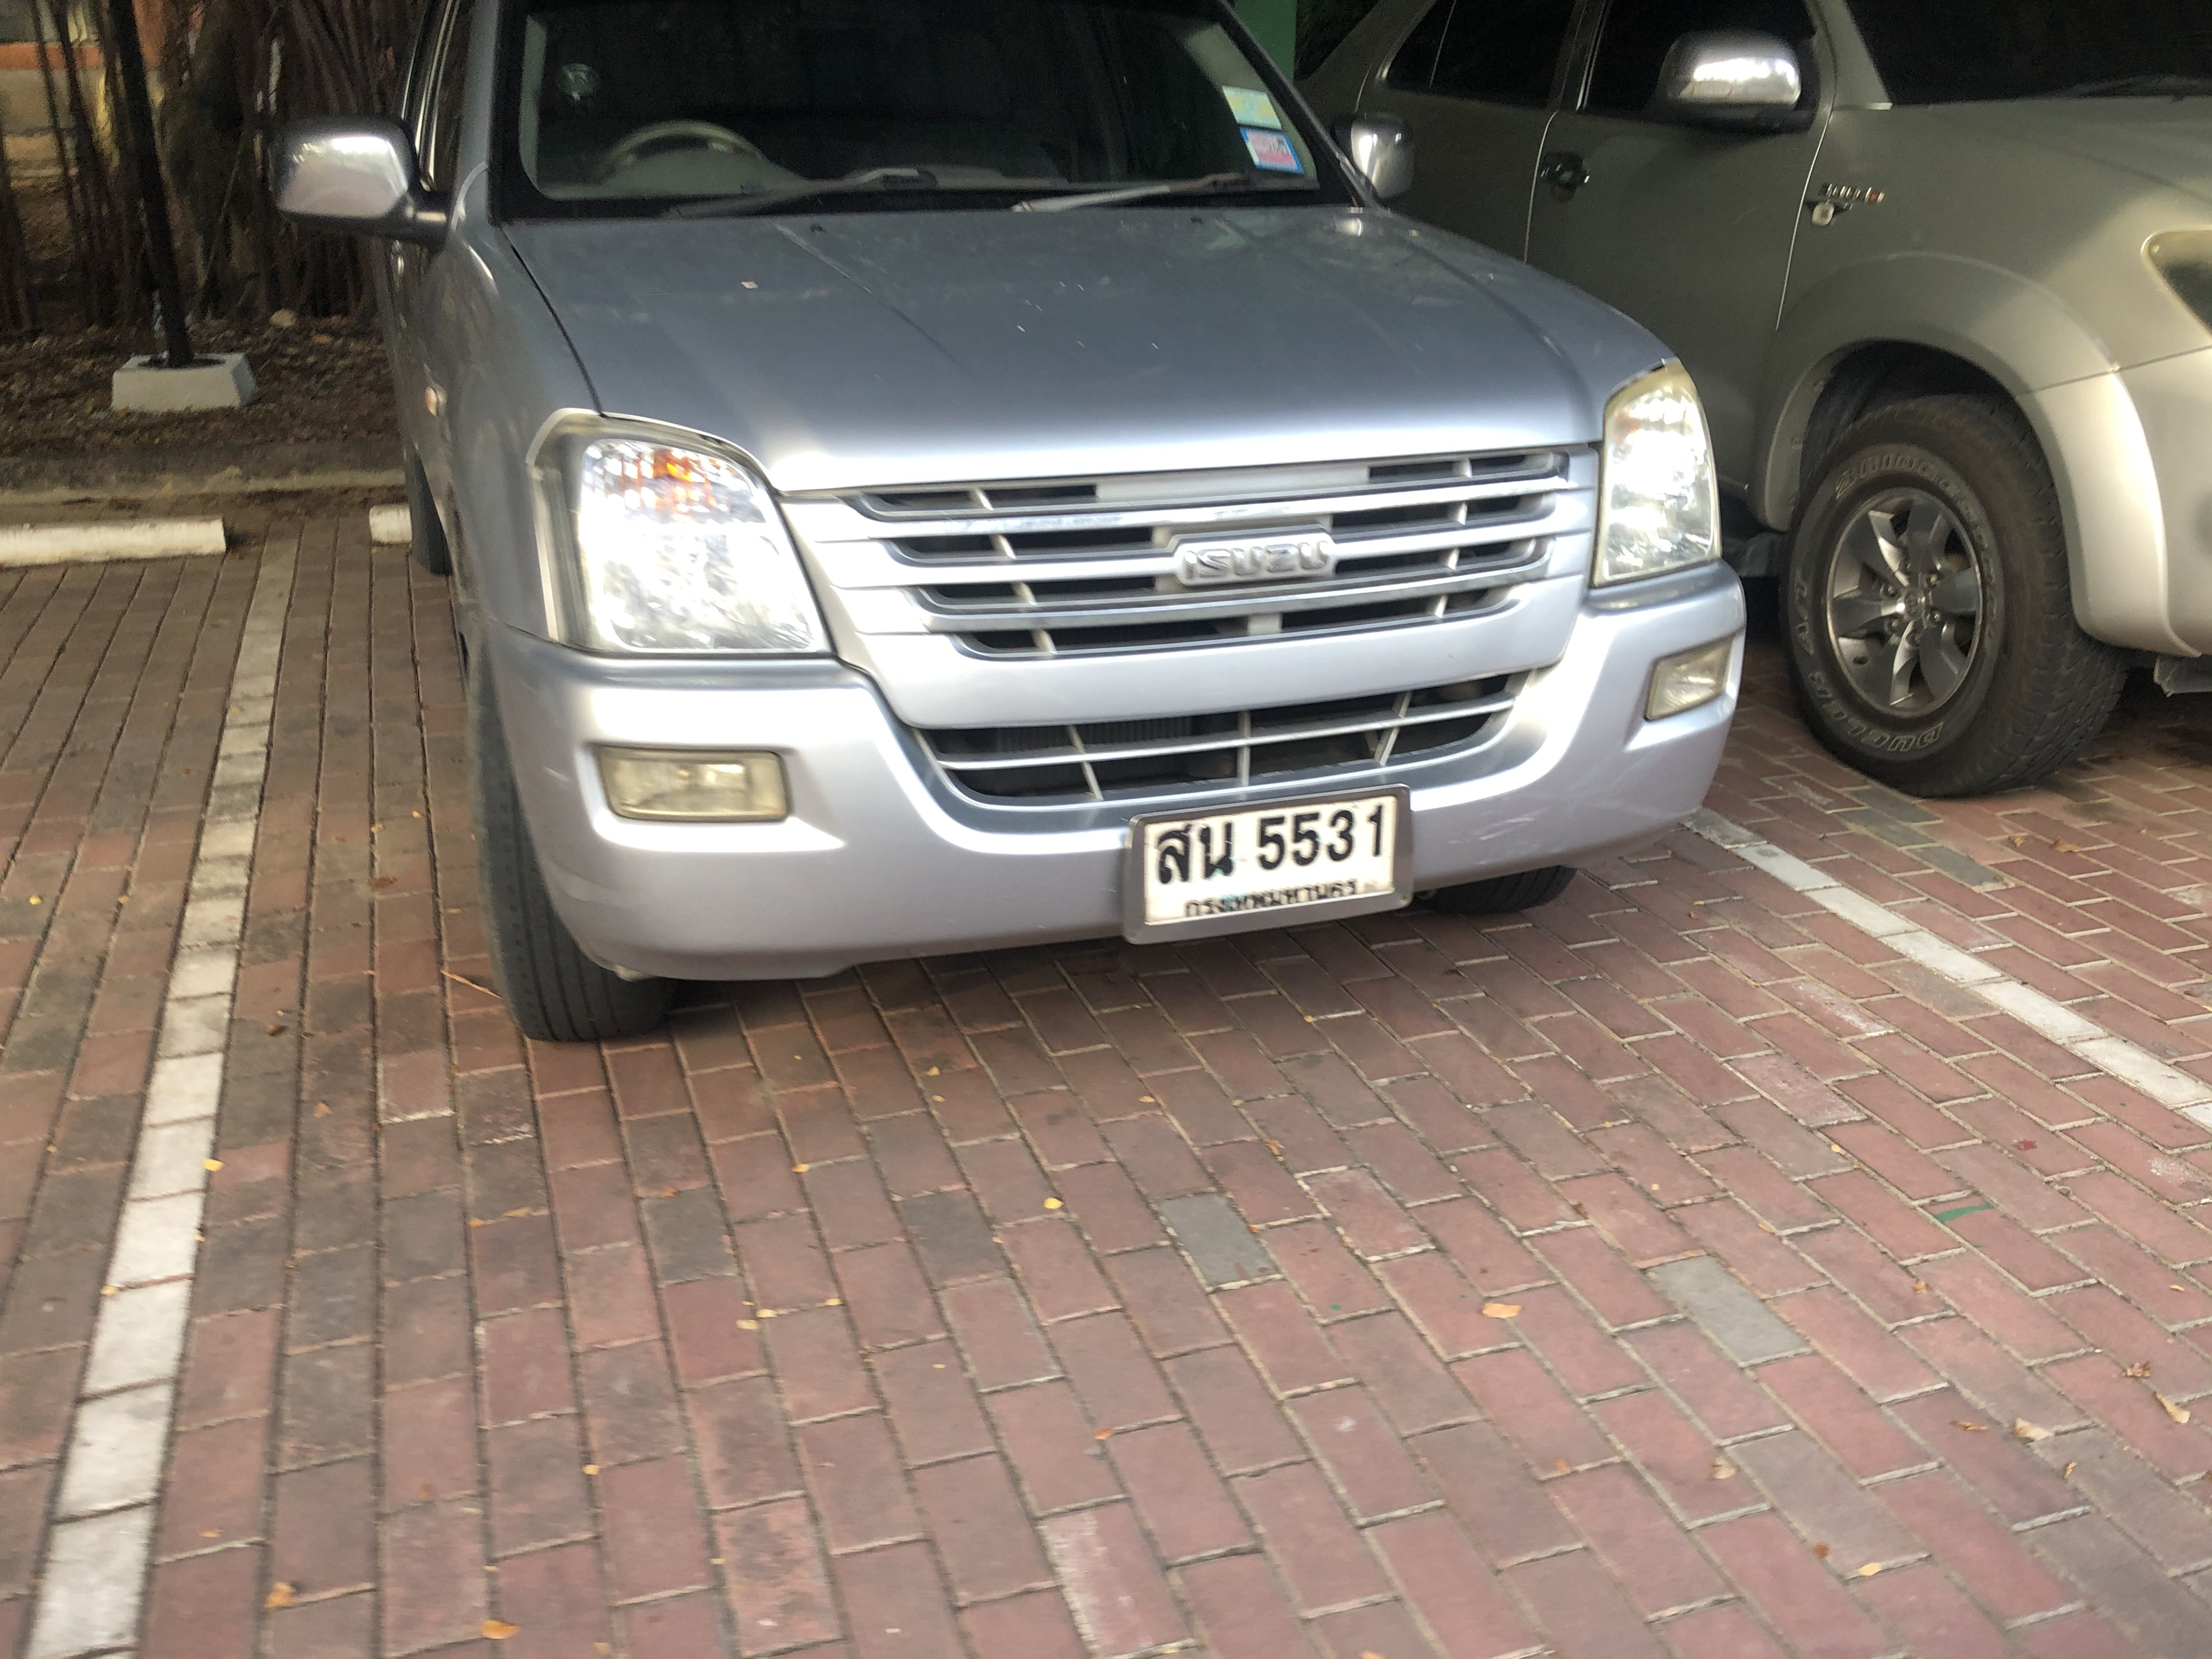in: (1148, 800, 1397, 931)
out: (1122, 784, 1423, 936)
